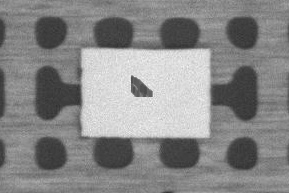DIE_INK: (129, 73, 156, 96)
